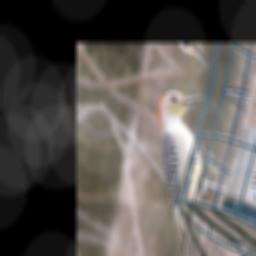Woodpecker: (127, 76, 245, 256)
